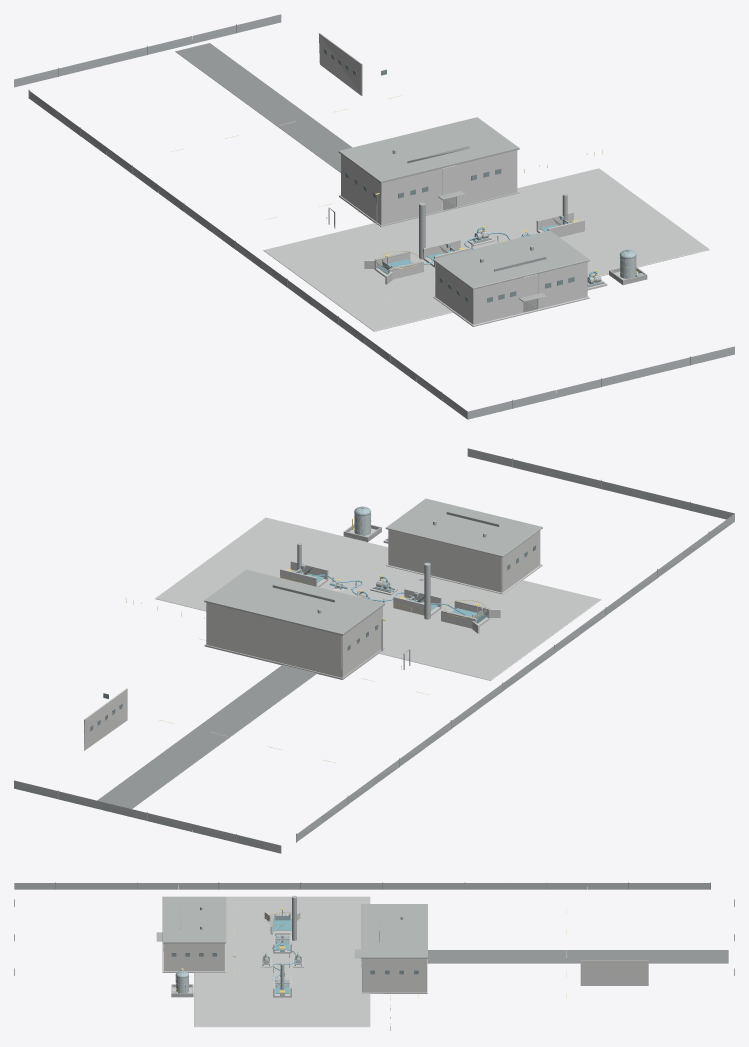
The picture shows the model from 3 angles, top to bottom: view 1: azimuth 30°, elevation 25°; view 2: azimuth 150°, elevation 25°; view 3: azimuth 270°, elevation 25°; orthographic projection. The views are drawn at different scales.
Parts seen in each view (by area): view 1: render-batch-13, render-batch-15, render-batch-8, render-batch-9, render-batch-2, render-batch-14, render-batch-5, render-batch-0; view 2: render-batch-13, render-batch-15, render-batch-8, render-batch-9, render-batch-2, render-batch-14, render-batch-5; view 3: render-batch-13, render-batch-8, render-batch-15, render-batch-9, render-batch-2, render-batch-14, render-batch-1, render-batch-12, render-batch-4.
Part boxes in pixels (x1,y1,x2,y2): render-batch-13: (263,168,709,331); render-batch-15: (319,33,587,324); render-batch-8: (338,117,589,302); render-batch-9: (14,14,734,419); render-batch-2: (175,43,352,172); render-batch-14: (364,212,645,290); render-batch-5: (28,24,690,408); render-batch-0: (324,48,574,302); render-batch-13: (155,517,601,680); render-batch-15: (84,529,540,750); render-batch-8: (204,498,542,635); render-batch-9: (14,448,734,853); render-batch-2: (97,665,316,808); render-batch-14: (280,528,500,633); render-batch-5: (58,458,709,842); render-batch-13: (162,896,427,1027); render-batch-8: (156,896,427,958); render-batch-15: (164,943,648,992); render-batch-9: (14,883,710,989); render-batch-2: (427,950,728,963); render-batch-14: (171,912,303,997); render-batch-1: (181,918,298,993); render-batch-12: (175,949,300,995); render-batch-4: (262,913,301,990).
Size of the model in its own units: 85.3 by 12.03 by 180.
